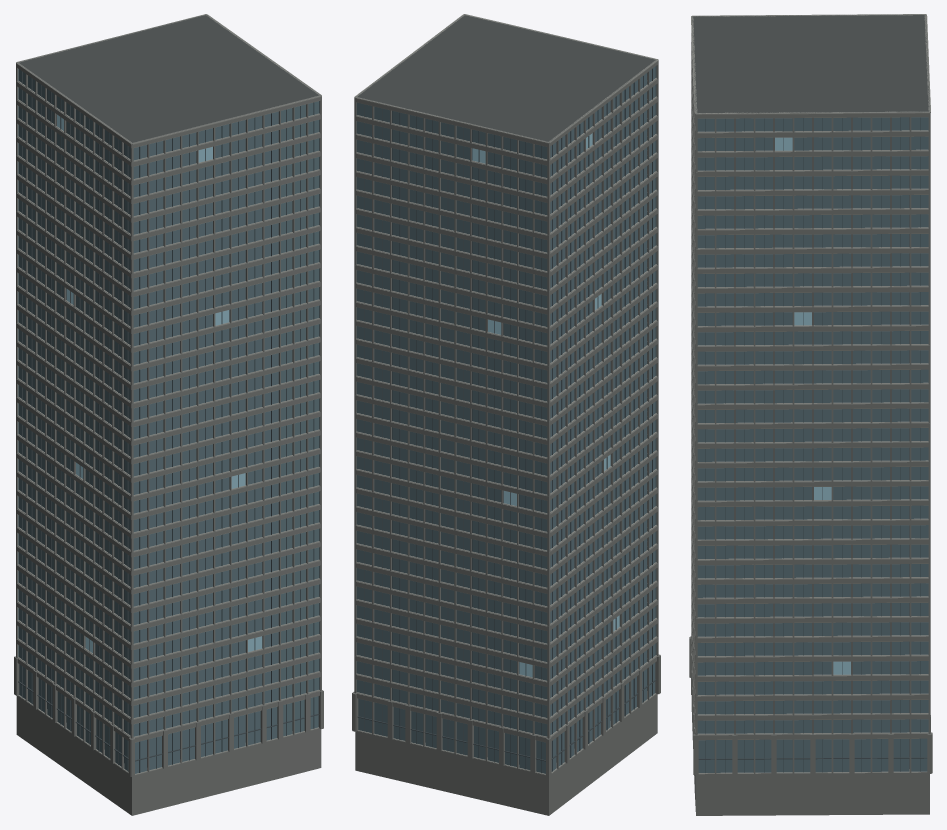
The model's file is wacker_150.glb.
3 views of the same model, side by side, from view 1: azimuth 30°, elevation 25°; view 2: azimuth 150°, elevation 25°; view 3: azimuth 270°, elevation 25° (orthographic). The views are drawn at different scales.
Parts seen in each view (by area): view 1: Wacker150 blue grey recessed paired panes, Wacker150 dark bronze grey structural grid, Wacker150 opaque interior and flat roof, Wacker150 metal sill and coping, Wacker150 fine black glazing frames, Night Wacker150 occupied paired panes; view 2: Wacker150 blue grey recessed paired panes, Wacker150 dark bronze grey structural grid, Wacker150 opaque interior and flat roof, Wacker150 metal sill and coping, Wacker150 fine black glazing frames, Night Wacker150 occupied paired panes; view 3: Wacker150 blue grey recessed paired panes, Wacker150 dark bronze grey structural grid, Wacker150 opaque interior and flat roof, Wacker150 metal sill and coping, Wacker150 fine black glazing frames, Night Wacker150 occupied paired panes.
Boxes of the visible parts, bbox=[...] form: Wacker150 blue grey recessed paired panes: bbox=[18, 69, 319, 773]; Wacker150 dark bronze grey structural grid: bbox=[14, 14, 323, 815]; Wacker150 opaque interior and flat roof: bbox=[19, 15, 318, 767]; Wacker150 metal sill and coping: bbox=[16, 14, 321, 774]; Wacker150 fine black glazing frames: bbox=[18, 71, 319, 772]; Night Wacker150 occupied paired panes: bbox=[57, 114, 262, 652]; Wacker150 blue grey recessed paired panes: bbox=[356, 66, 656, 773]; Wacker150 dark bronze grey structural grid: bbox=[352, 14, 660, 815]; Wacker150 opaque interior and flat roof: bbox=[357, 15, 655, 764]; Wacker150 metal sill and coping: bbox=[354, 14, 658, 774]; Wacker150 fine black glazing frames: bbox=[357, 68, 656, 772]; Night Wacker150 occupied paired panes: bbox=[472, 133, 619, 677]; Wacker150 blue grey recessed paired panes: bbox=[697, 117, 928, 772]; Wacker150 dark bronze grey structural grid: bbox=[689, 14, 932, 815]; Wacker150 opaque interior and flat roof: bbox=[692, 15, 929, 768]; Wacker150 metal sill and coping: bbox=[691, 14, 930, 773]; Wacker150 fine black glazing frames: bbox=[698, 117, 927, 772]; Night Wacker150 occupied paired panes: bbox=[775, 137, 850, 674].
Bounding box in the file's own units: 41.29 × 134 × 42.26.
